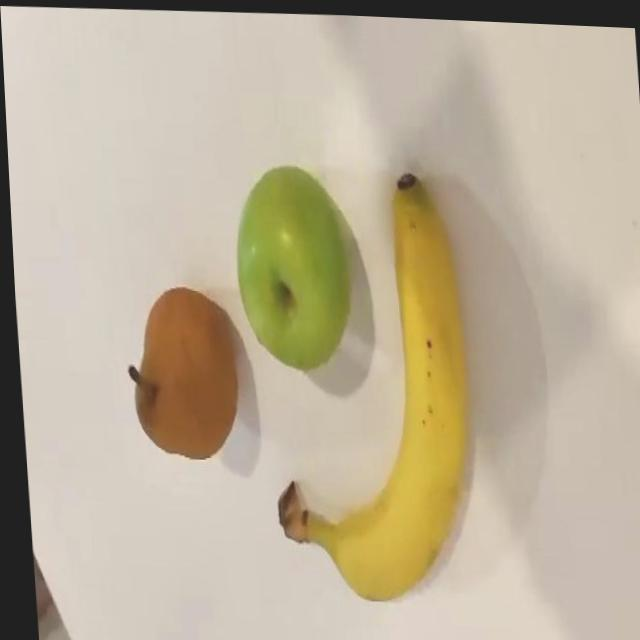Apple: (228, 157, 359, 377)
Banana: (248, 161, 478, 608)
